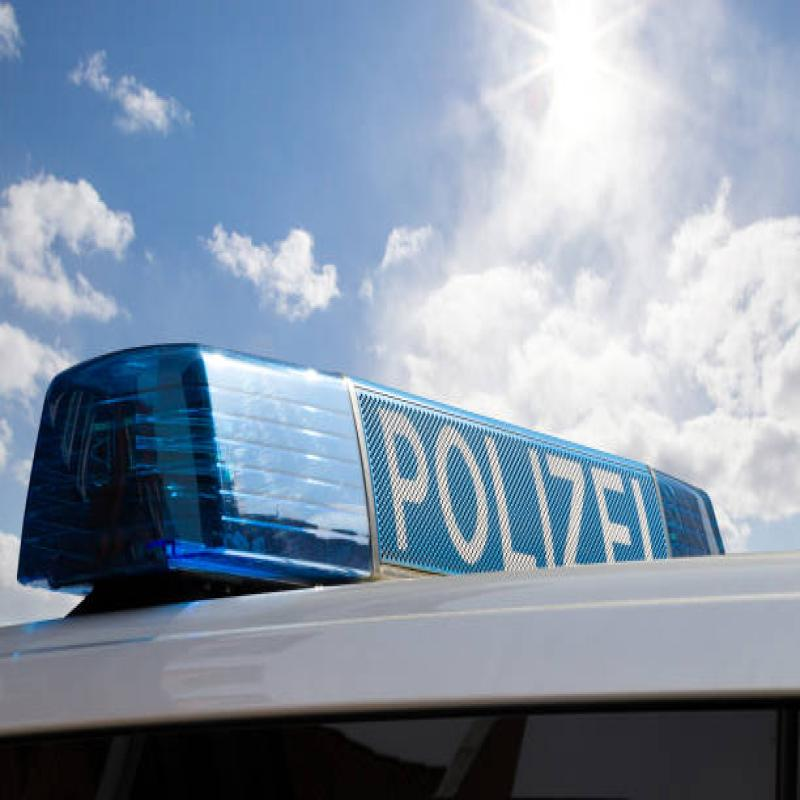AmbulanceSiren: (15, 329, 737, 617)
